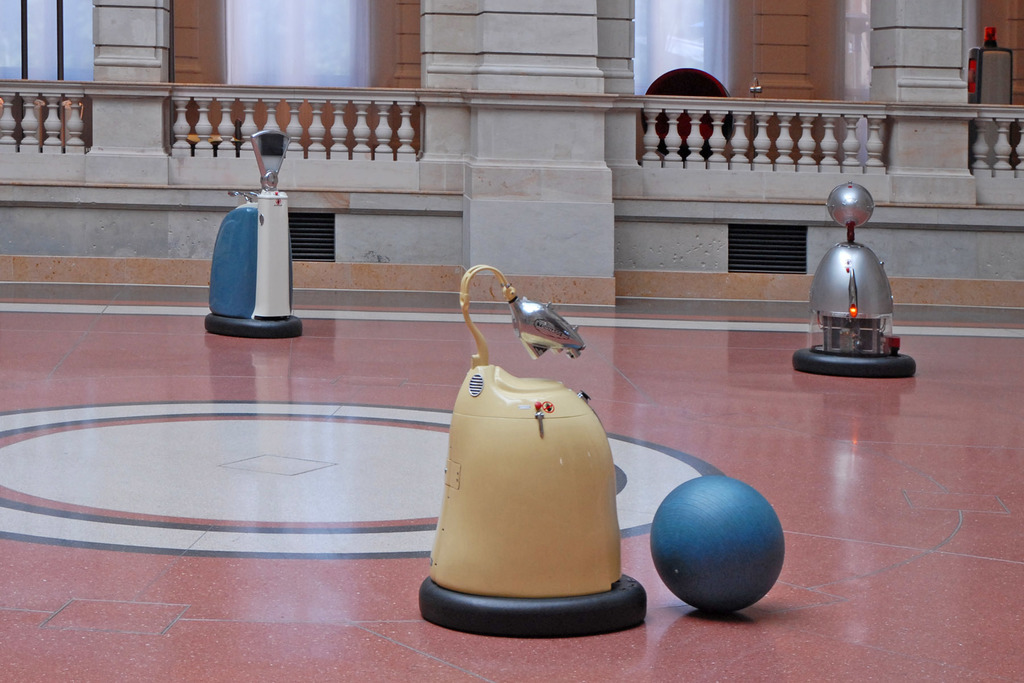Ball: (647, 473, 788, 609)
